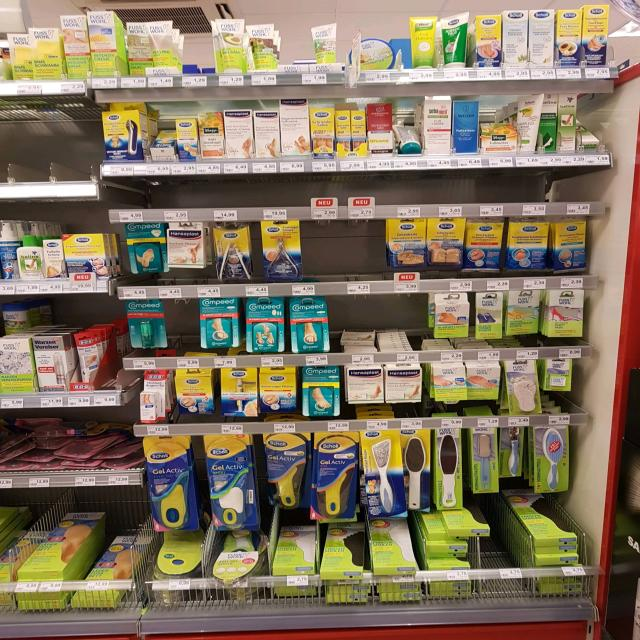void: (41, 97, 84, 200), (2, 101, 36, 200), (341, 219, 384, 294), (382, 297, 425, 364), (333, 302, 372, 366), (482, 538, 524, 593), (306, 222, 337, 294), (105, 172, 149, 222), (548, 170, 598, 214), (192, 170, 234, 222), (152, 168, 190, 225), (414, 173, 459, 220), (282, 172, 324, 222), (326, 168, 368, 218), (503, 165, 542, 218), (184, 14, 210, 89), (460, 170, 499, 220), (240, 174, 276, 222), (373, 168, 409, 216), (170, 301, 195, 368), (284, 10, 303, 86)
